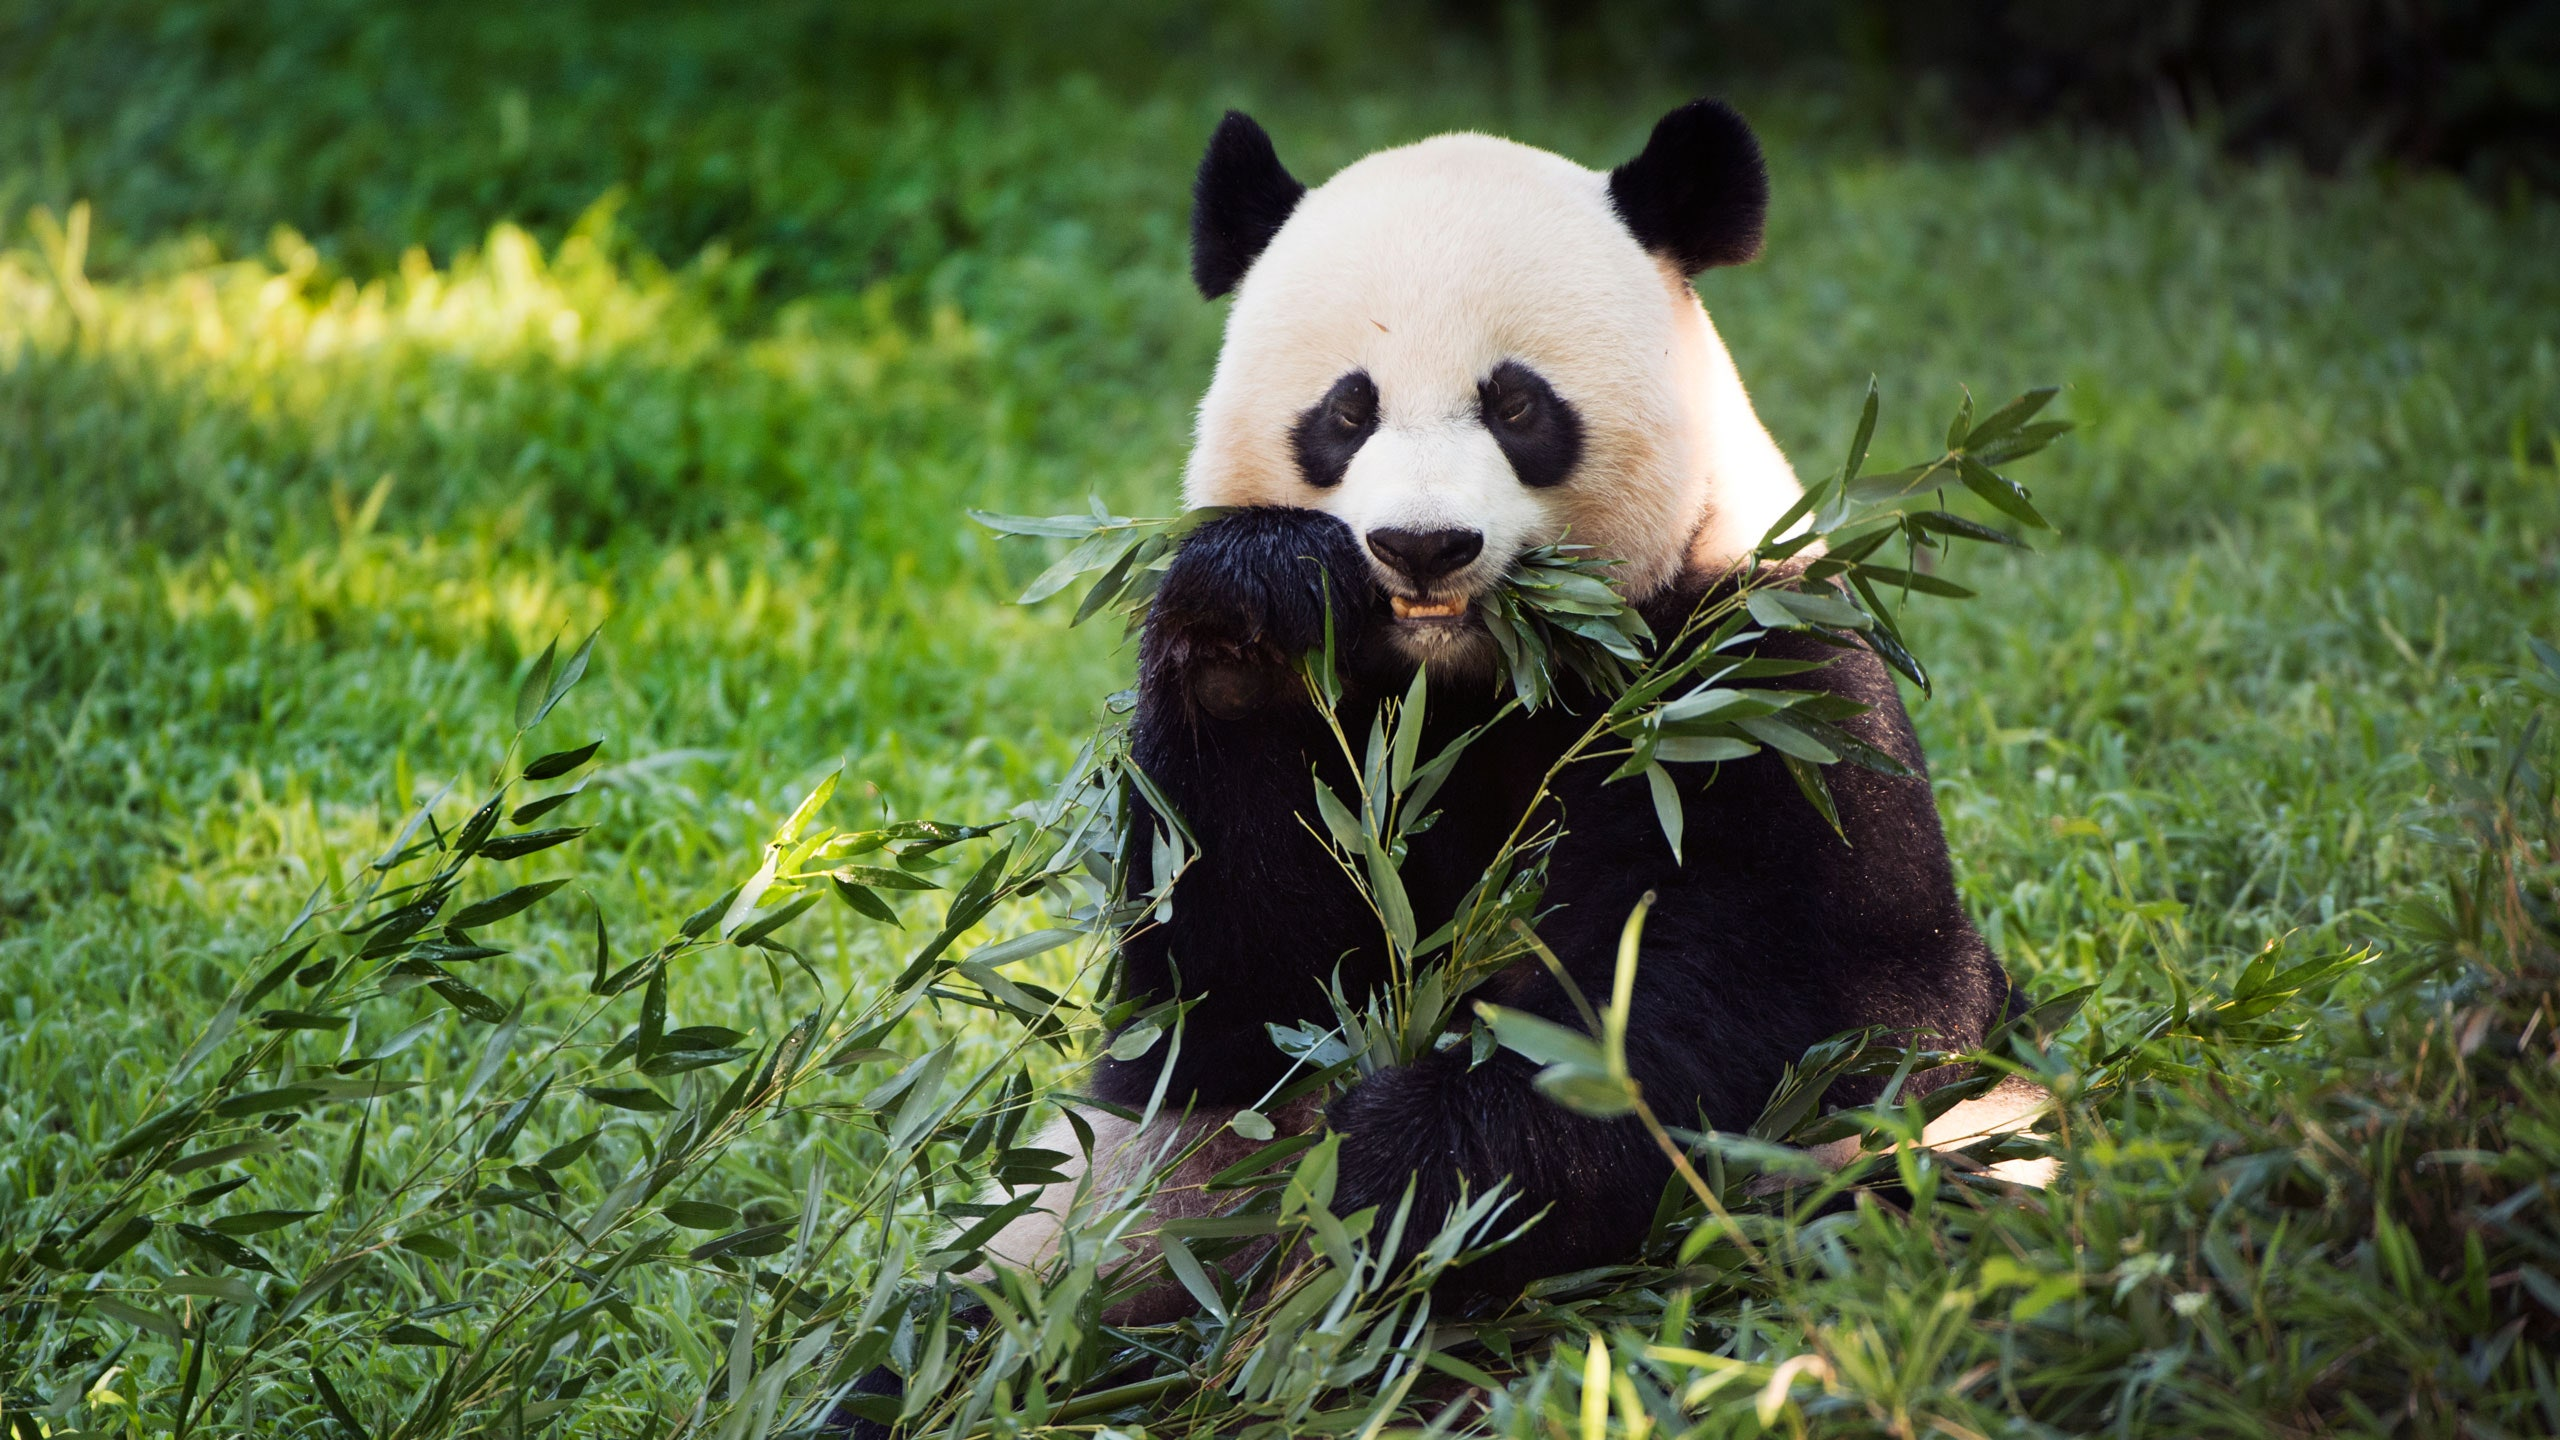panda: (902, 81, 2092, 1378)
